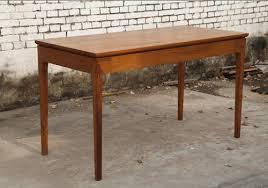desk: (22, 15, 255, 175)
